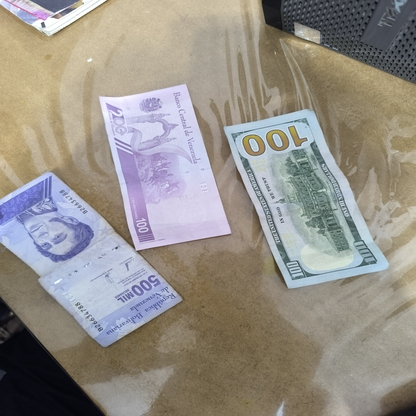one_hundred-back: (225, 106, 396, 293)
